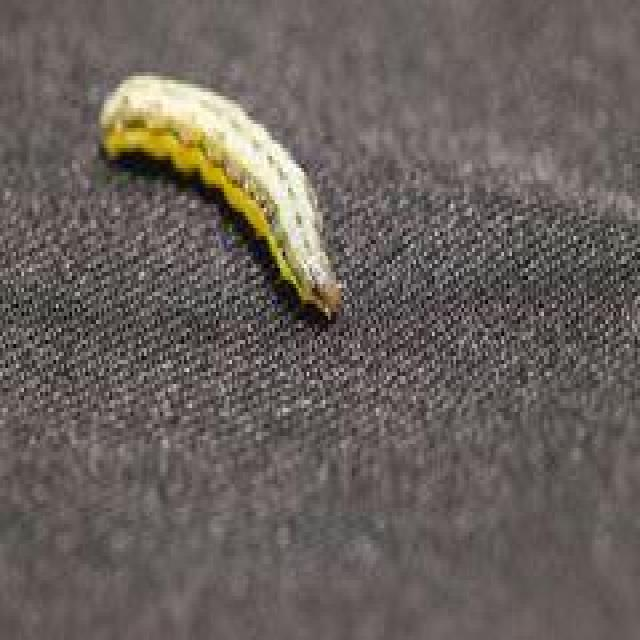BeetArmyWorm-Larva-: (96, 60, 349, 334)
